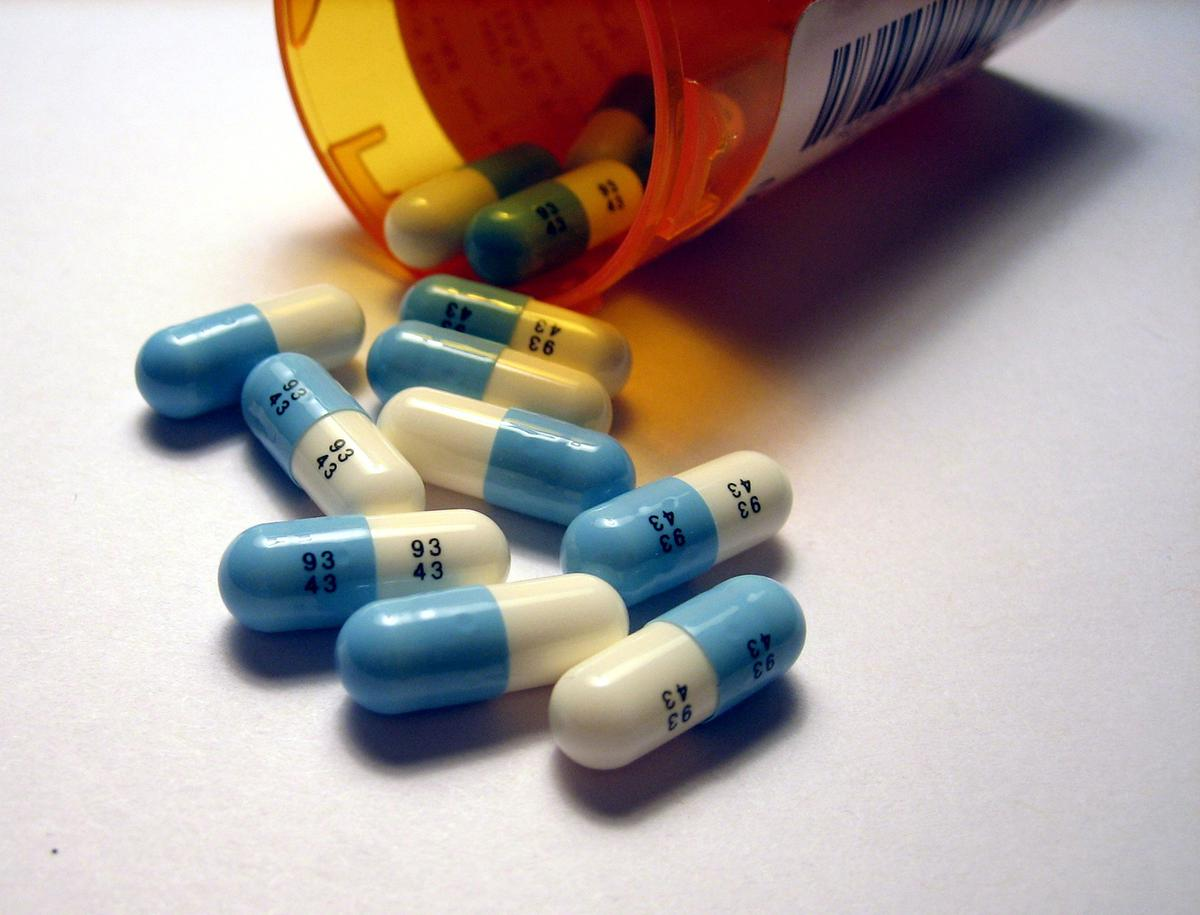capsule: (546, 573, 817, 773), (334, 567, 632, 716), (132, 281, 370, 446), (375, 389, 636, 536), (236, 346, 426, 540), (221, 516, 511, 634), (552, 448, 801, 581), (364, 320, 613, 450), (399, 273, 632, 399), (379, 138, 579, 265), (466, 157, 650, 277), (577, 63, 658, 177)
